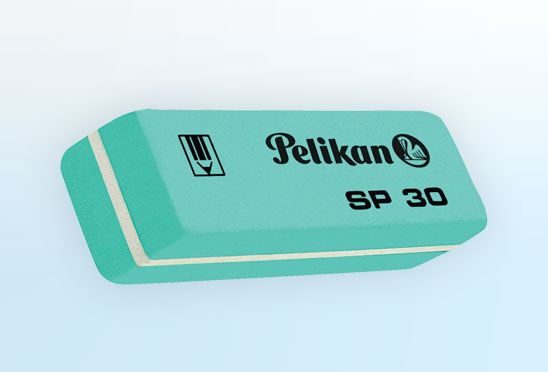eraser: (57, 104, 491, 279)
